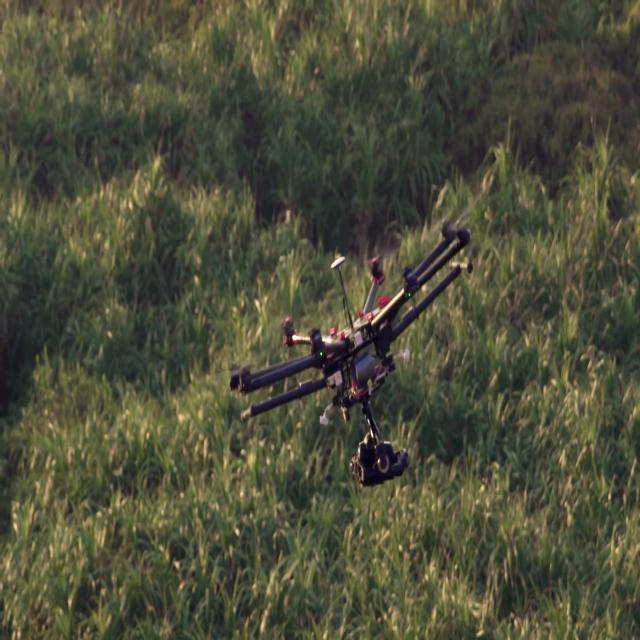drone: (210, 208, 471, 502)
